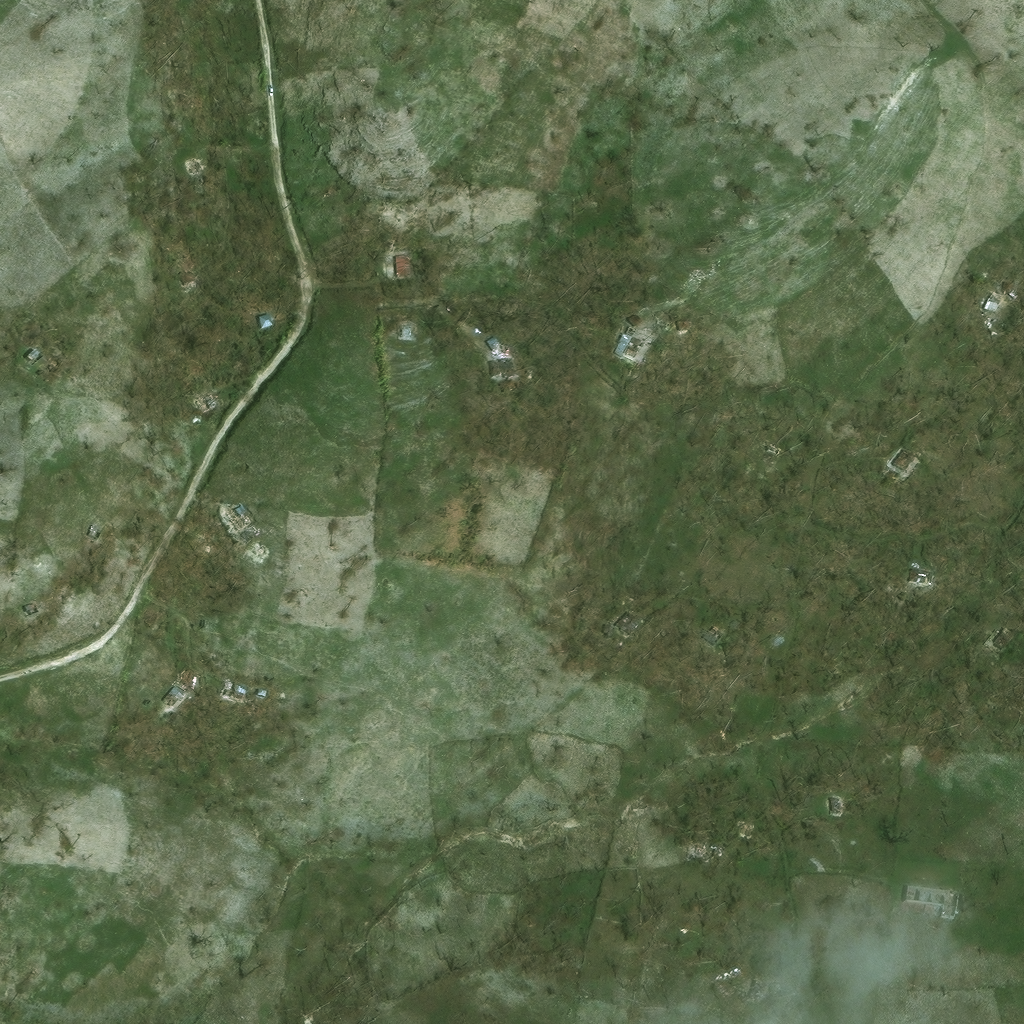destroyed: (750, 435, 789, 477), (189, 149, 217, 191), (183, 249, 210, 281), (208, 380, 235, 406), (61, 534, 82, 555), (751, 810, 771, 828), (398, 325, 415, 340), (699, 836, 712, 850)
major_damage: (146, 660, 205, 720), (607, 304, 656, 371), (984, 264, 1023, 314), (912, 877, 973, 906), (697, 614, 735, 655), (595, 608, 641, 639), (476, 349, 504, 390), (217, 675, 249, 706), (223, 506, 249, 533), (840, 789, 856, 806)
minor_damage: (389, 239, 420, 277), (897, 440, 930, 472), (997, 616, 1023, 645), (8, 355, 31, 378), (907, 563, 931, 583), (669, 320, 680, 333)
no_damage: (256, 292, 277, 309)
unclassified: (0, 607, 31, 640), (170, 72, 198, 102), (754, 968, 795, 987)
